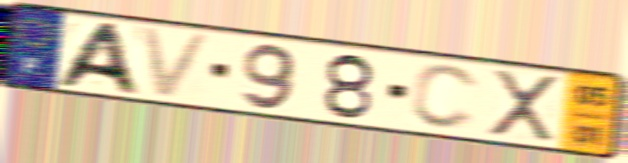8: (323, 52, 375, 120)
9: (239, 41, 299, 112)
A: (48, 20, 145, 98)
C: (407, 62, 483, 133)
V: (137, 24, 217, 101)
X: (488, 67, 562, 144)
